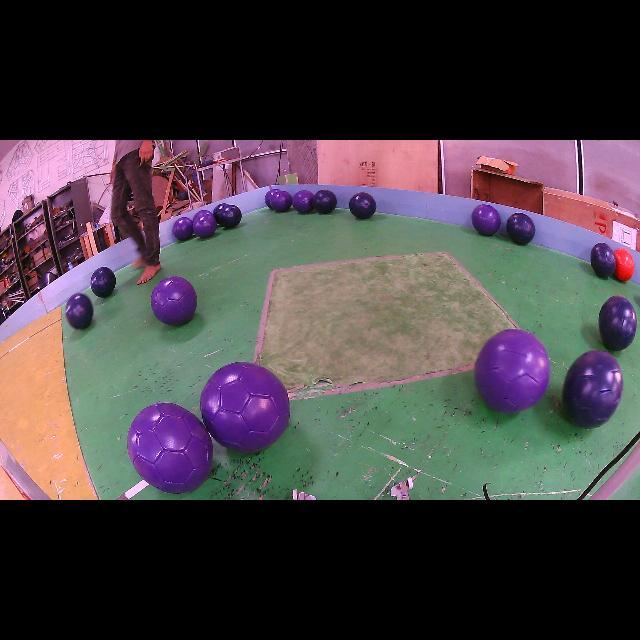B: (562, 350, 622, 429), (599, 295, 636, 350), (65, 294, 94, 329), (506, 212, 535, 245), (590, 242, 616, 278), (90, 266, 116, 298), (349, 192, 376, 219), (312, 190, 338, 214), (220, 205, 241, 228), (212, 204, 228, 222)
P: (200, 362, 290, 452), (128, 402, 212, 494), (475, 329, 550, 414), (151, 276, 198, 325), (471, 204, 501, 236), (192, 215, 216, 238), (292, 190, 314, 214), (172, 218, 194, 240), (270, 190, 292, 212), (264, 189, 279, 209), (194, 210, 212, 219)
R: (614, 249, 635, 281)
